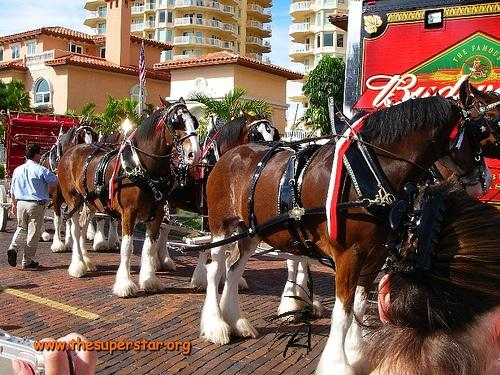tampered: (267, 263, 313, 362)
